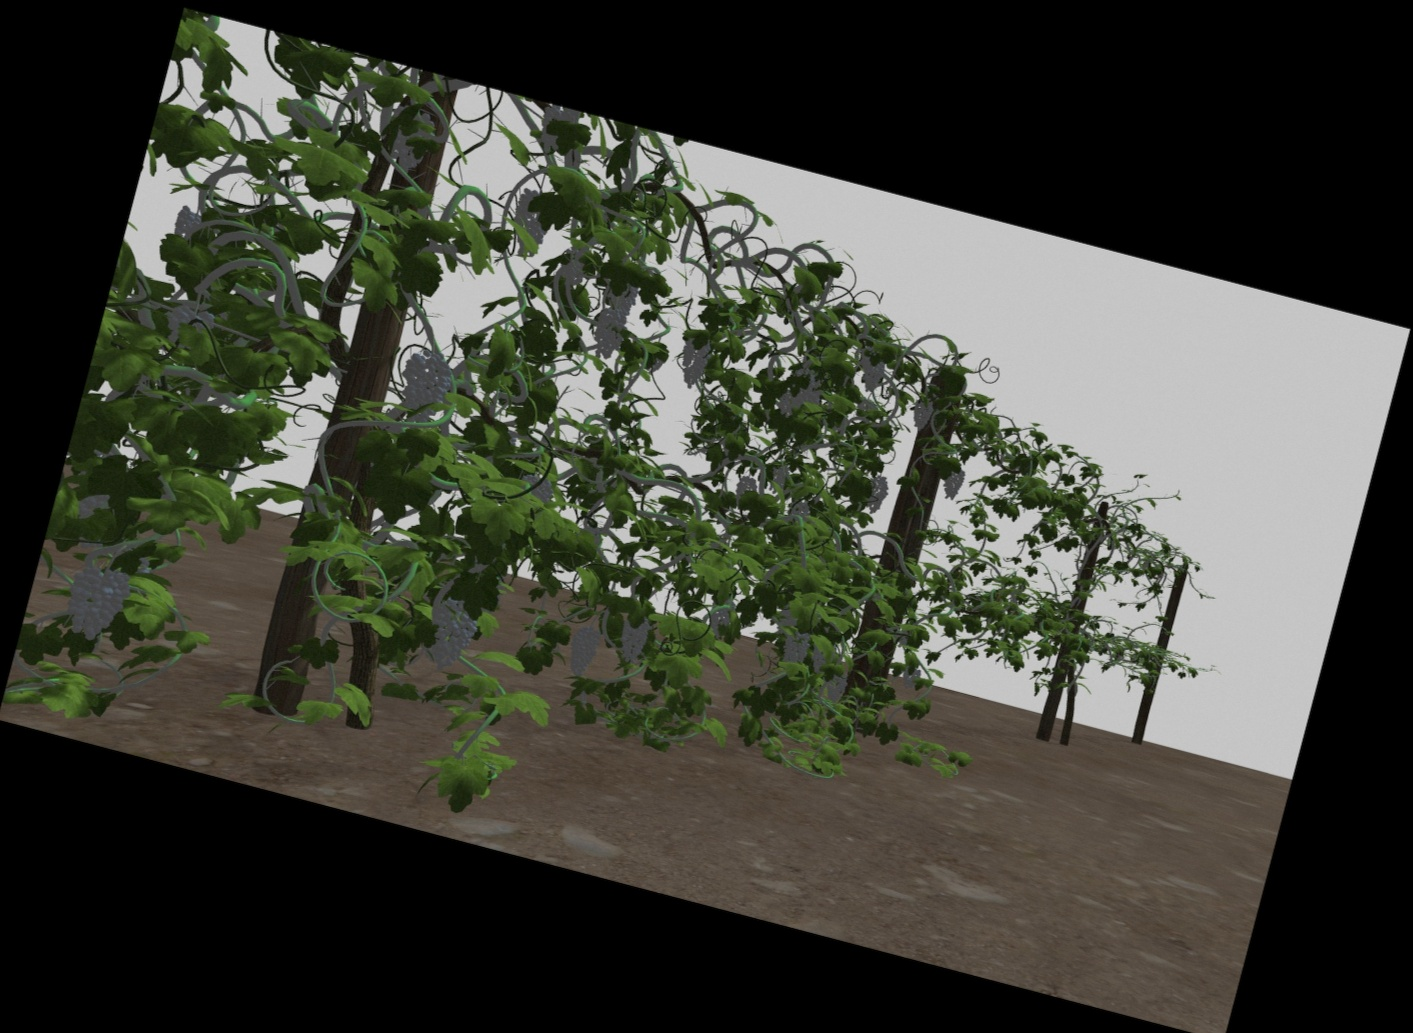grape: (66, 566, 126, 640), (399, 348, 449, 421), (430, 600, 473, 671), (388, 110, 430, 172), (783, 368, 819, 418), (539, 107, 575, 154), (594, 306, 624, 359), (678, 333, 708, 387), (568, 625, 597, 680), (618, 614, 647, 661), (858, 347, 888, 391), (608, 279, 637, 313), (519, 218, 542, 261), (782, 628, 807, 667), (866, 473, 888, 514), (515, 186, 535, 229), (706, 604, 730, 638), (911, 398, 932, 431), (734, 475, 756, 506), (825, 672, 846, 703), (943, 465, 962, 499), (810, 645, 833, 672), (900, 665, 920, 689)
